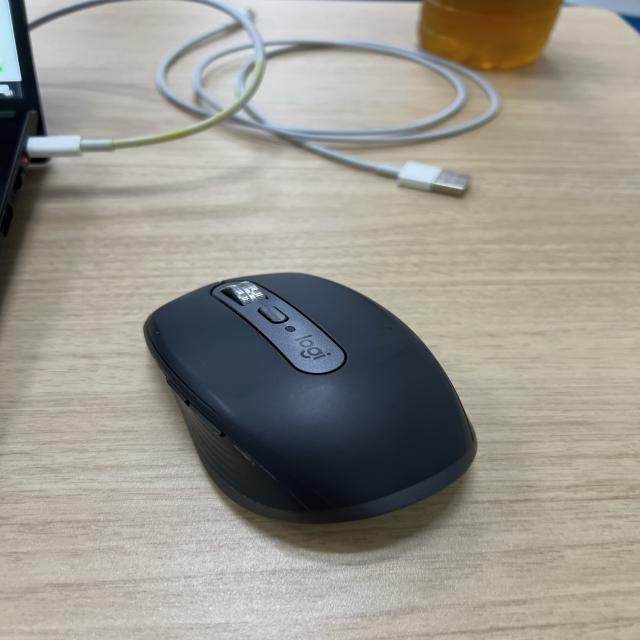mouse: (110, 269, 525, 532)
